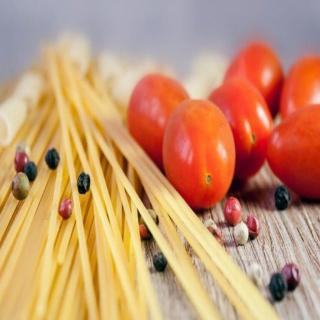tomato: (164, 98, 236, 207), (208, 78, 274, 190), (127, 66, 195, 164), (262, 102, 320, 198), (224, 45, 285, 135), (274, 52, 320, 121)
